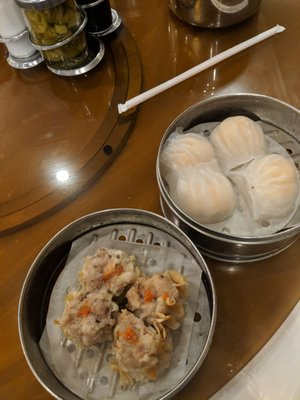pizza: (0, 0, 45, 70)
salad: (119, 23, 286, 114)
sushi: (19, 208, 217, 400), (155, 94, 300, 263)
